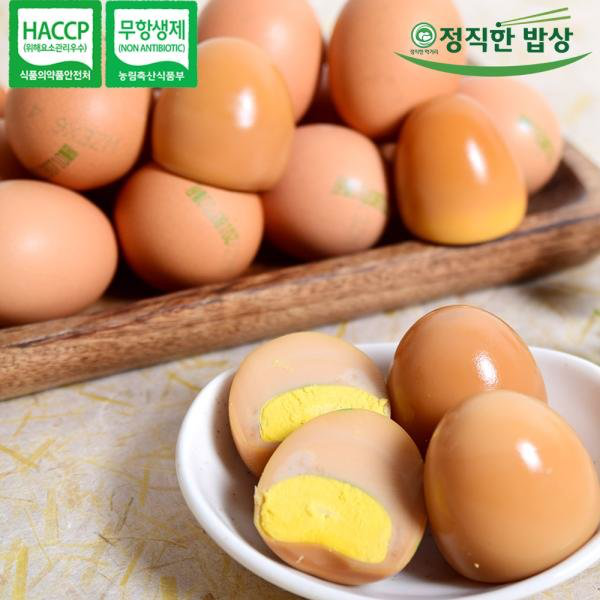egg: (1, 2, 566, 318), (222, 300, 600, 583)
